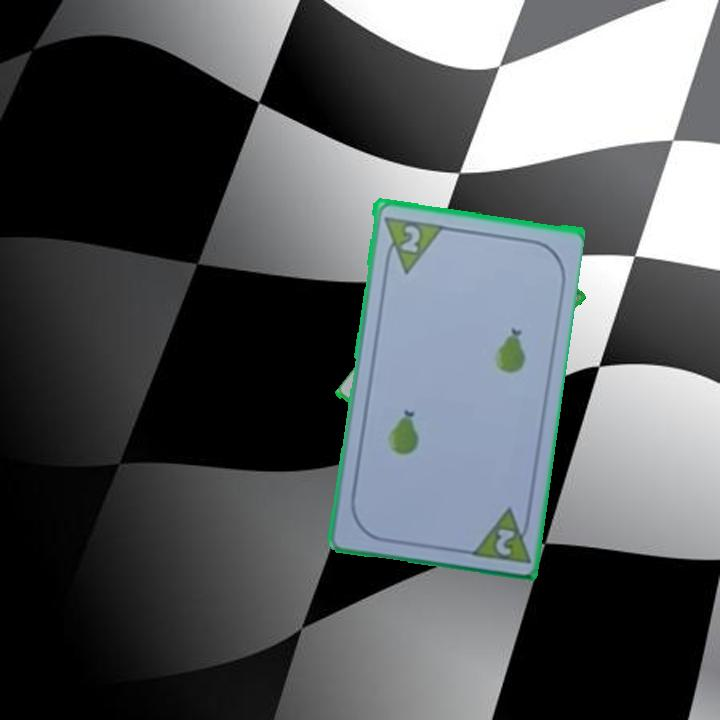2p: (379, 212, 443, 275), (491, 524, 518, 559)
